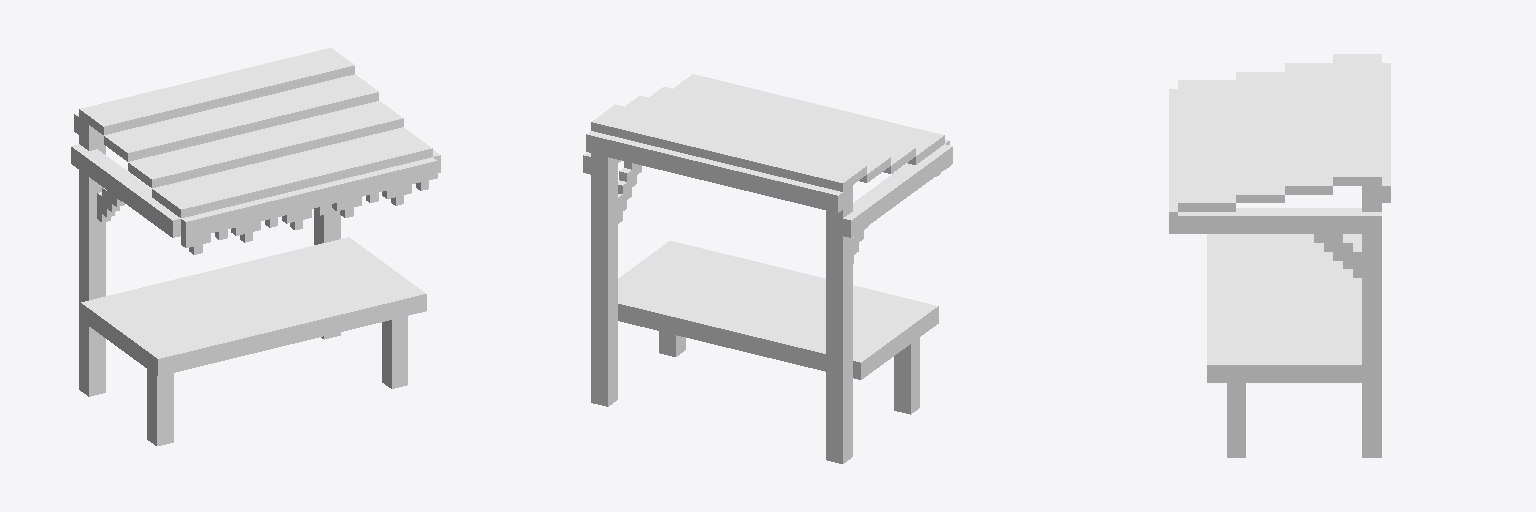
Rendered from MarketStall-1.obj.
3 renders of one model, left to right at view 1: azimuth 30°, elevation 25°; view 2: azimuth 150°, elevation 25°; view 3: azimuth 270°, elevation 25°, orthographic.
Parts seen in each view (by area): view 1: object 1; view 2: object 1; view 3: object 1.
Part boxes in pixels (x1,y1,x2,y2): object 1: (71,48,440,445); object 1: (583,74,952,463); object 1: (1169,54,1390,457).
Size of the model in its own units: 3.2 by 3.2 by 2.3.